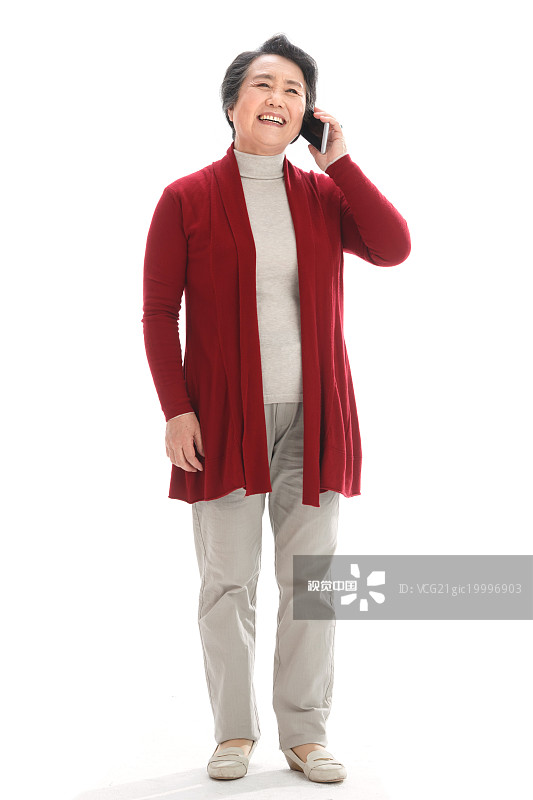calling: (294, 97, 361, 182)
no-phone: (147, 396, 217, 485)
